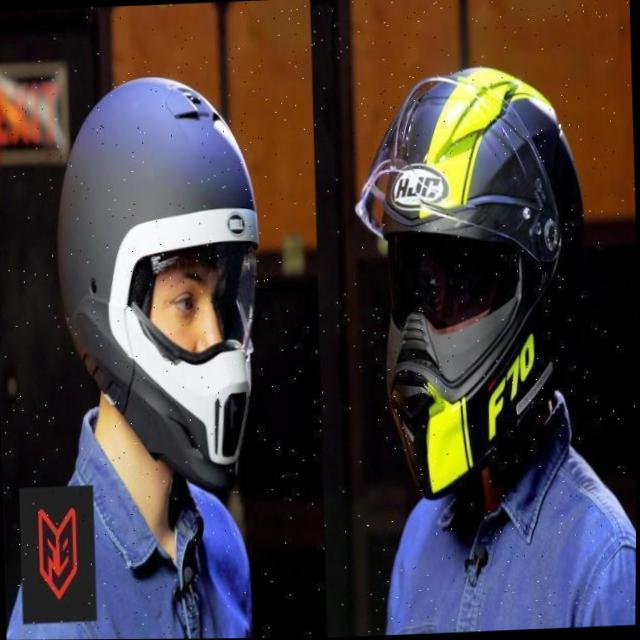helmet: (345, 59, 597, 541), (48, 68, 274, 537)
